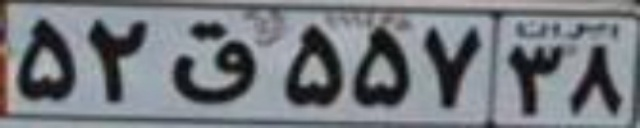2: (87, 17, 149, 102)
3: (505, 42, 560, 115)
5: (15, 17, 78, 100), (282, 25, 343, 104), (354, 26, 408, 104)
7: (416, 21, 492, 107)
8: (566, 45, 622, 117)
ghaf: (165, 18, 258, 101)
